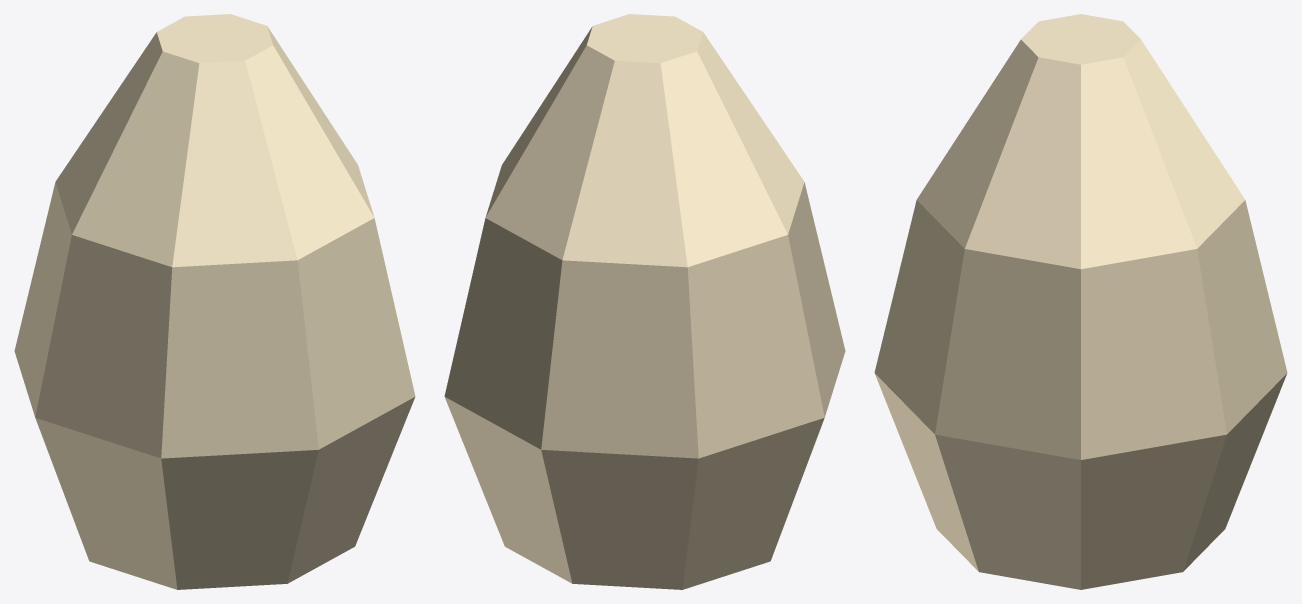
Rendered from egg.glb.
3 views of the same model, side by side, from view 1: azimuth 30°, elevation 25°; view 2: azimuth 150°, elevation 25°; view 3: azimuth 270°, elevation 25° (orthographic).
Parts seen in each view (by area): view 1: stone_smallH; view 2: stone_smallH; view 3: stone_smallH.
Boxes of the visible parts, x1,y1,x2,y2 form: stone_smallH: (14,14,415,589); stone_smallH: (444,14,845,589); stone_smallH: (874,14,1287,589).
Bounding box in the file's own units: 1.74 × 2.28 × 1.74.
